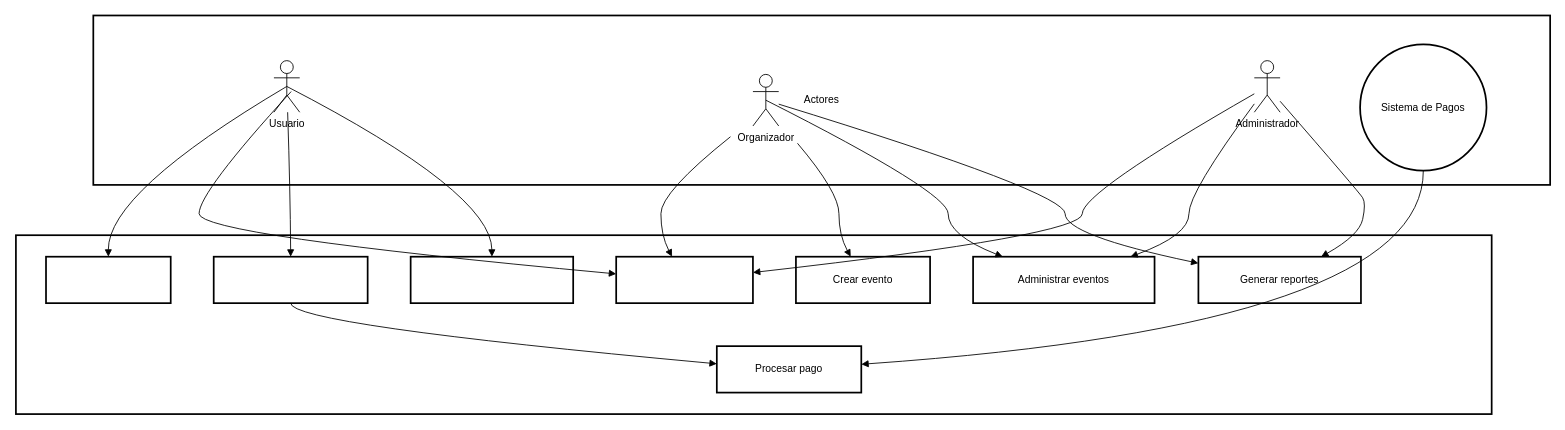
This 1565x430 diagram has some shape labels left out. Each missing label, with the box of its shape:
Casos de Uso: (15, 234, 1492, 415)
Comprar boleto: (212, 255, 368, 304)
Descargar boleto: (409, 255, 574, 304)
Iniciar sesión: (615, 255, 753, 304)
Registrarse: (45, 255, 171, 304)
